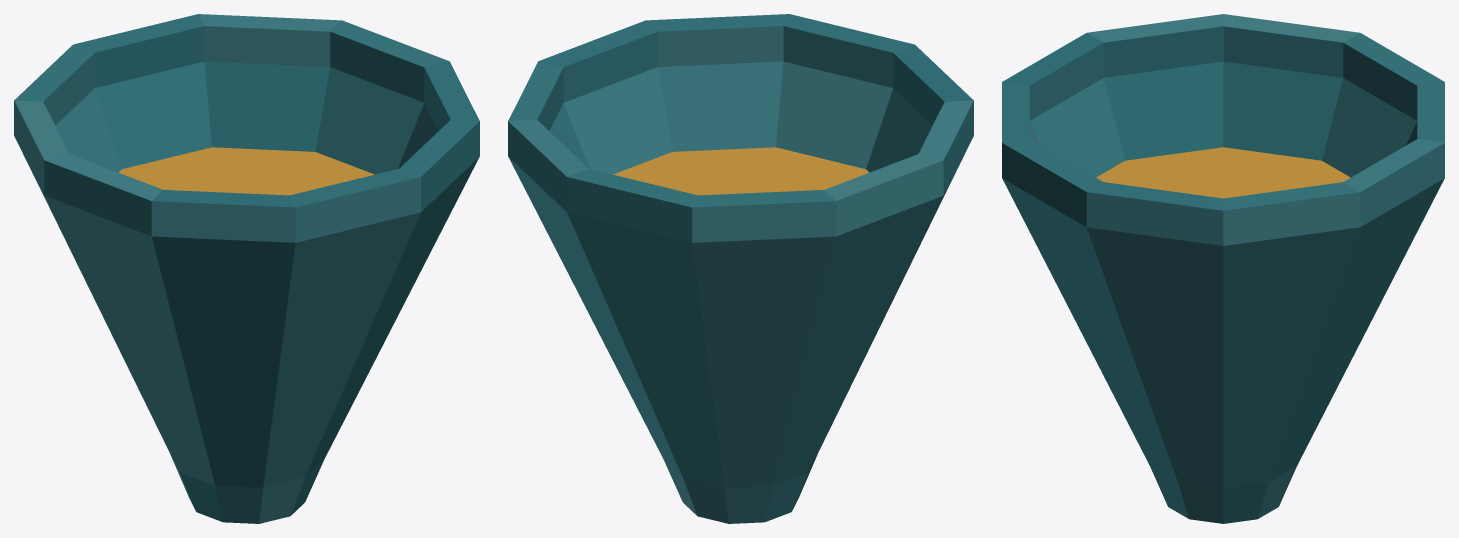
File: C05_AutoHopper.fbx
The picture shows the model from 3 angles, left to right: view 1: azimuth 30°, elevation 25°; view 2: azimuth 150°, elevation 25°; view 3: azimuth 270°, elevation 25°; orthographic projection.
Visible parts, largest first — view 1: C05_AutoHopper.003; view 2: C05_AutoHopper.003; view 3: C05_AutoHopper.003.
Boxes of the visible parts, x1,y1,x2,y2 form: C05_AutoHopper.003: (14, 14, 479, 523); C05_AutoHopper.003: (508, 14, 973, 523); C05_AutoHopper.003: (1002, 14, 1444, 523).
Bounding box in the file's own units: 0.48 × 0.44 × 0.4565.
